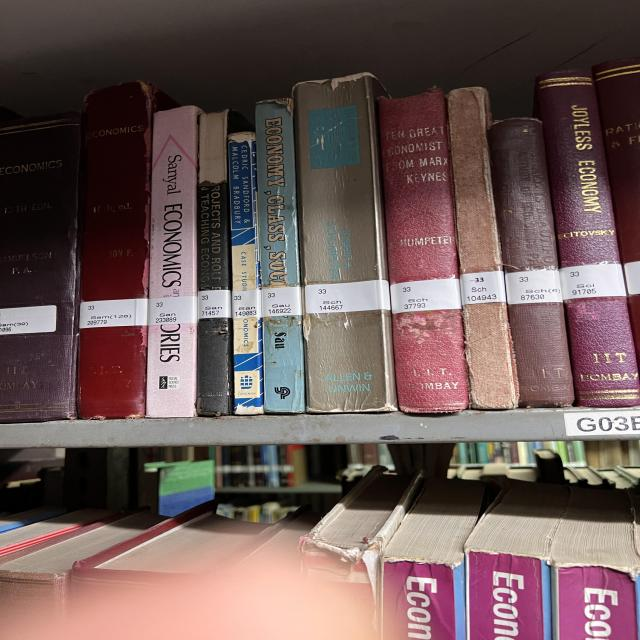Book: (293, 72, 397, 412), (535, 70, 638, 406), (78, 81, 177, 419), (378, 89, 468, 412), (0, 112, 82, 422), (488, 118, 573, 408), (447, 88, 518, 409), (147, 106, 202, 418), (255, 99, 305, 412), (228, 132, 263, 414)
Label: (305, 280, 390, 314), (390, 278, 462, 314), (560, 264, 627, 300), (80, 299, 148, 329), (505, 270, 563, 305), (0, 305, 57, 335), (460, 271, 507, 305), (148, 296, 198, 325), (262, 286, 302, 318), (198, 290, 232, 319), (232, 289, 262, 319)
